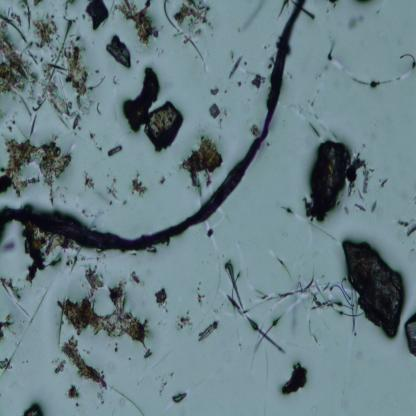Background material: (0, 0, 105, 141), (221, 256, 346, 348), (52, 262, 153, 358), (338, 238, 406, 343), (305, 139, 370, 222), (126, 64, 184, 156), (0, 131, 73, 195), (325, 42, 416, 90), (62, 336, 108, 391), (181, 135, 225, 192), (24, 231, 70, 281), (114, 0, 159, 46), (171, 0, 214, 46), (292, 88, 329, 139), (0, 273, 30, 314), (280, 361, 308, 398), (148, 364, 178, 394), (106, 34, 132, 68), (84, 1, 110, 32), (403, 310, 416, 358), (172, 310, 193, 332), (344, 12, 364, 33), (154, 284, 169, 312), (228, 52, 243, 80), (396, 216, 416, 236), (0, 313, 15, 339), (22, 398, 43, 416), (129, 176, 146, 198), (106, 175, 120, 201), (260, 41, 276, 63), (193, 282, 206, 309), (202, 224, 217, 245), (353, 0, 378, 12), (82, 171, 96, 192), (251, 72, 266, 90), (208, 101, 222, 120), (67, 385, 81, 401), (170, 390, 188, 402), (280, 204, 295, 218), (107, 144, 122, 158), (0, 356, 13, 372), (129, 269, 141, 286), (54, 358, 65, 376), (210, 86, 219, 96), (251, 127, 259, 138), (159, 175, 165, 187)
Cotton: (0, 0, 306, 252)
Diatom: (199, 318, 218, 342), (370, 198, 377, 212)
